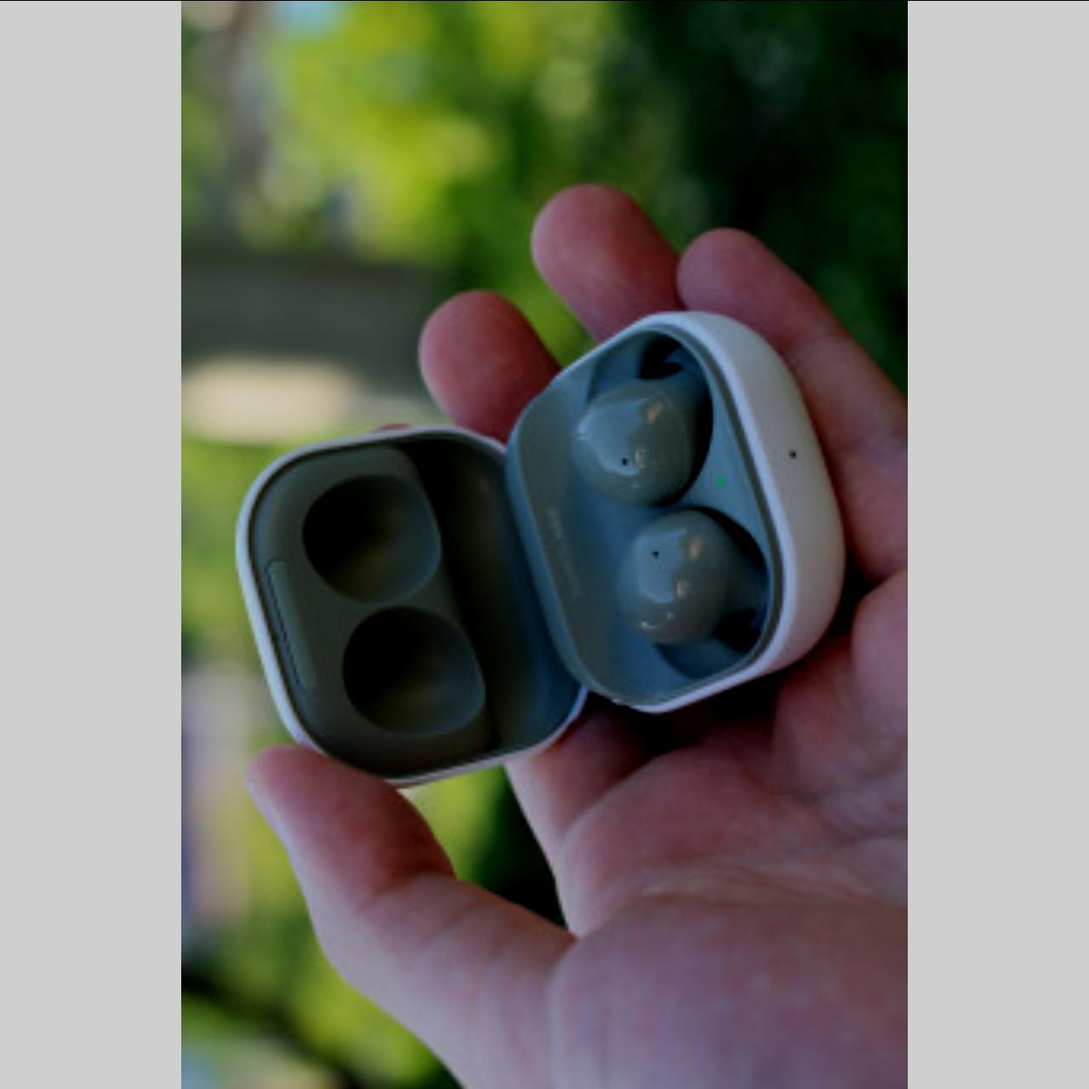Buds: (236, 302, 857, 800)
Buds_Units: (563, 334, 723, 510), (608, 500, 779, 652)
